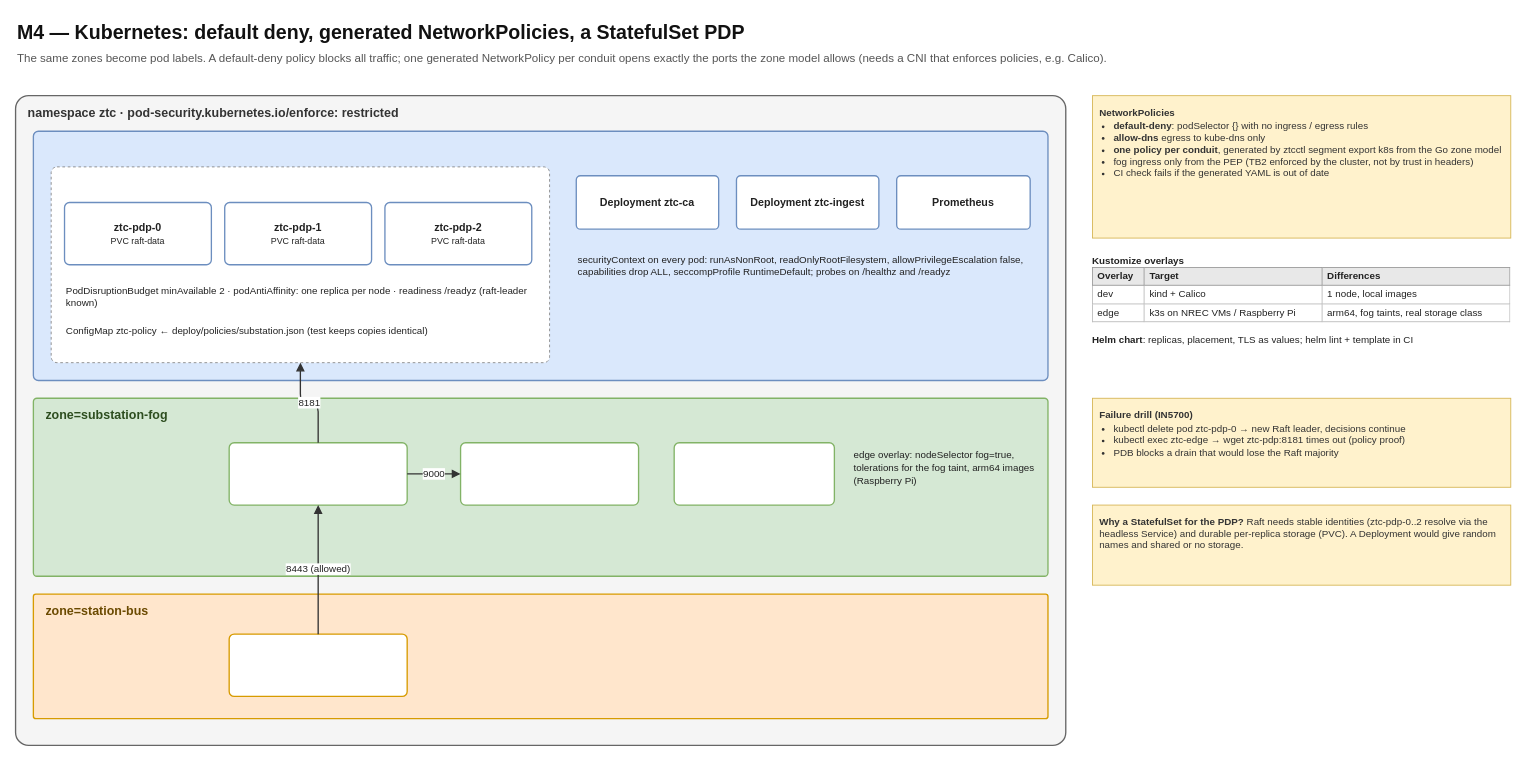
The diagram is 1527 pixels wide and 761 high, and some of its shapes have lost their labels. Here are the shapes that lost their labels. From the top down, the box of each, then its label:
(50, 166, 550, 363): StatefulSet ztc-pdp (headless Service → stable Raft peer names)
(32, 130, 1048, 381): zone=control-centre
(228, 442, 407, 505): Deployment ztc-pep
(460, 442, 639, 505): Deployment ztc-fog
(673, 442, 835, 505): Deployment ztc-ids
(228, 633, 407, 697): Deployment ztc-edge simulated devices
